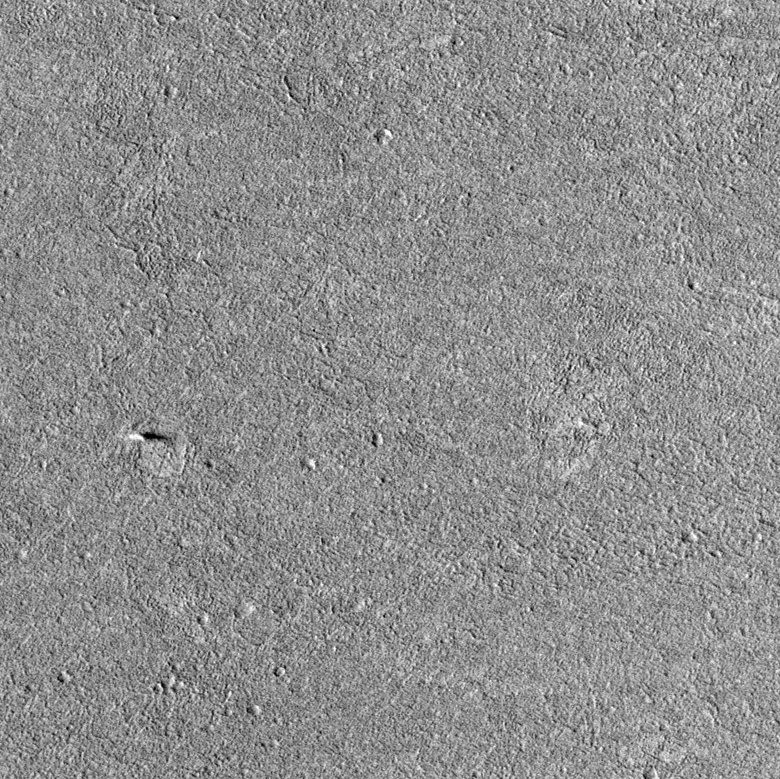dust_devil: (128, 431, 175, 449)
